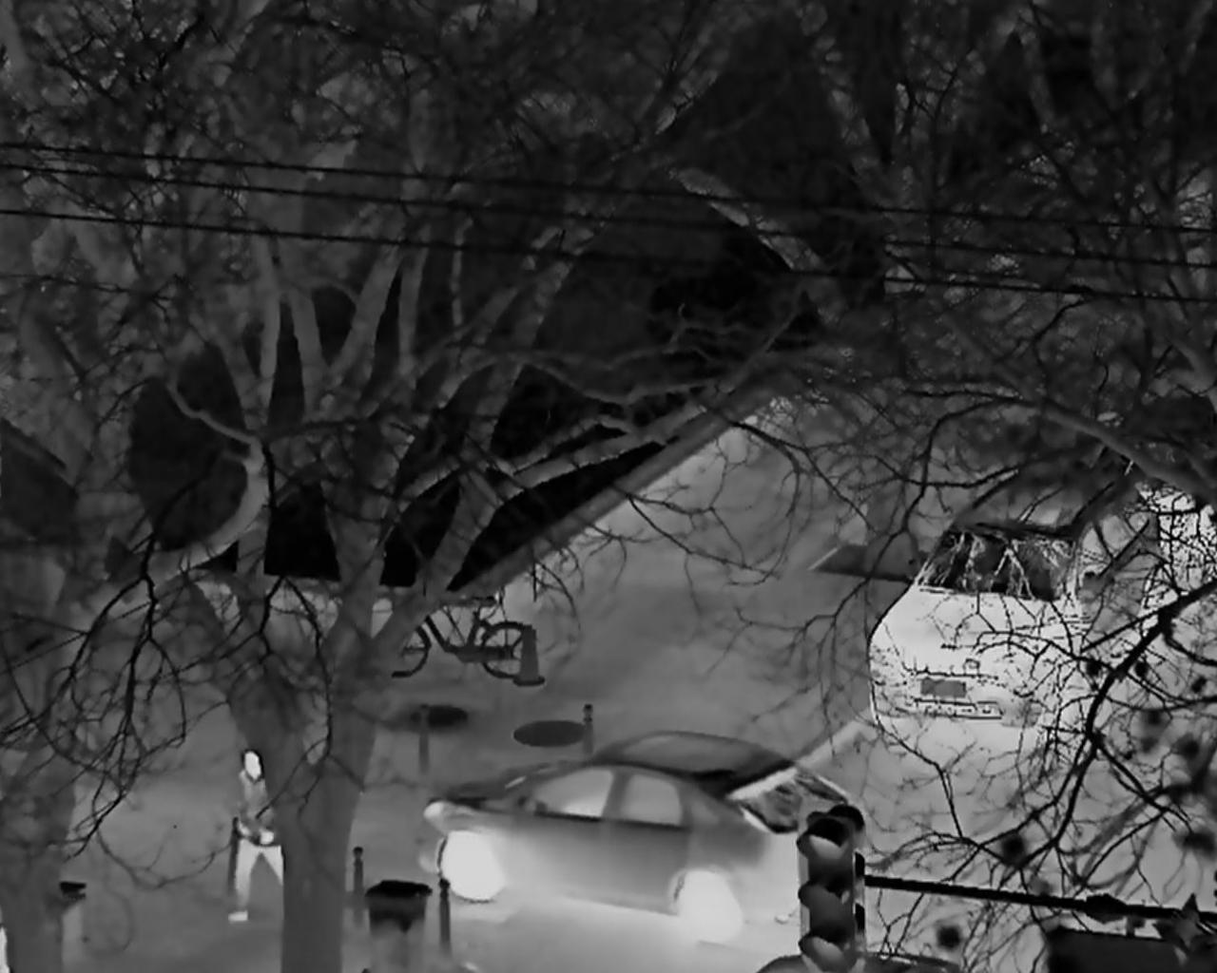person: (227, 748, 283, 925)
